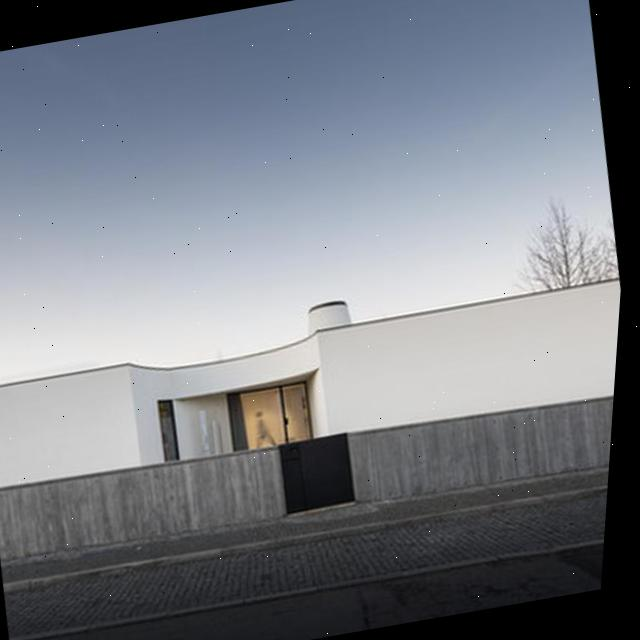building: (0, 275, 622, 574)
